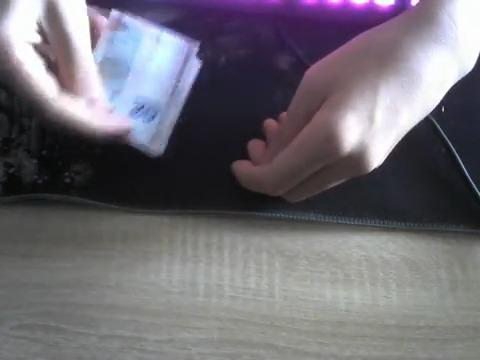20leva: (91, 10, 202, 160), (92, 10, 201, 161)
